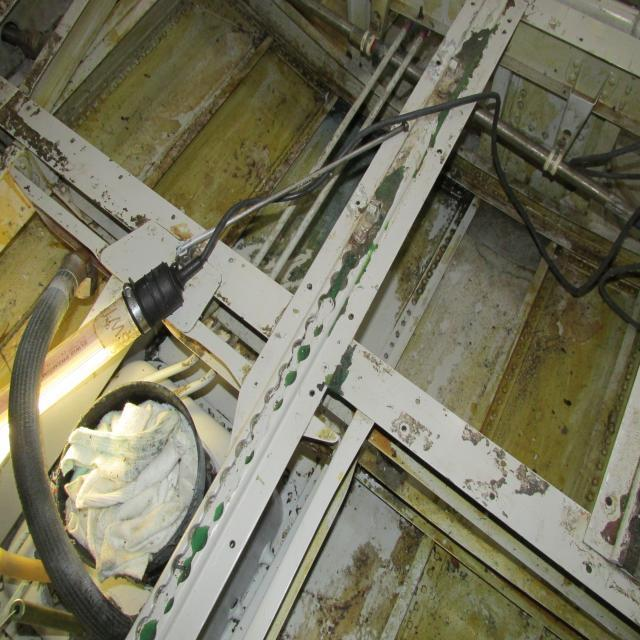Missing Fastener: (596, 485, 620, 513), (408, 385, 428, 413), (577, 555, 599, 579), (396, 412, 414, 440), (424, 46, 444, 70), (484, 486, 504, 510), (497, 448, 513, 476), (348, 192, 368, 212), (502, 15, 522, 35), (224, 533, 244, 553), (428, 144, 448, 162), (459, 0, 488, 12), (112, 170, 132, 187), (68, 128, 82, 152), (344, 306, 360, 326), (306, 380, 322, 400), (223, 248, 241, 264), (303, 275, 317, 295), (165, 208, 182, 224), (23, 99, 37, 117)
